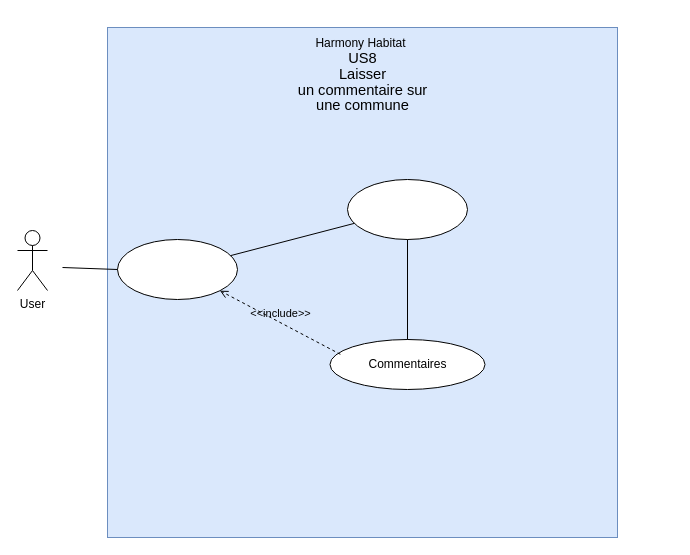
Image size: 690x555. Some labels were removed from this diagram. The shapes that lost their labels are listed below. From the top down, each one's box as (x1, y1, x2, y2) in pixels, then its label:
(346, 178, 468, 240): Rechercher une commune
(116, 238, 238, 300): Authentification
